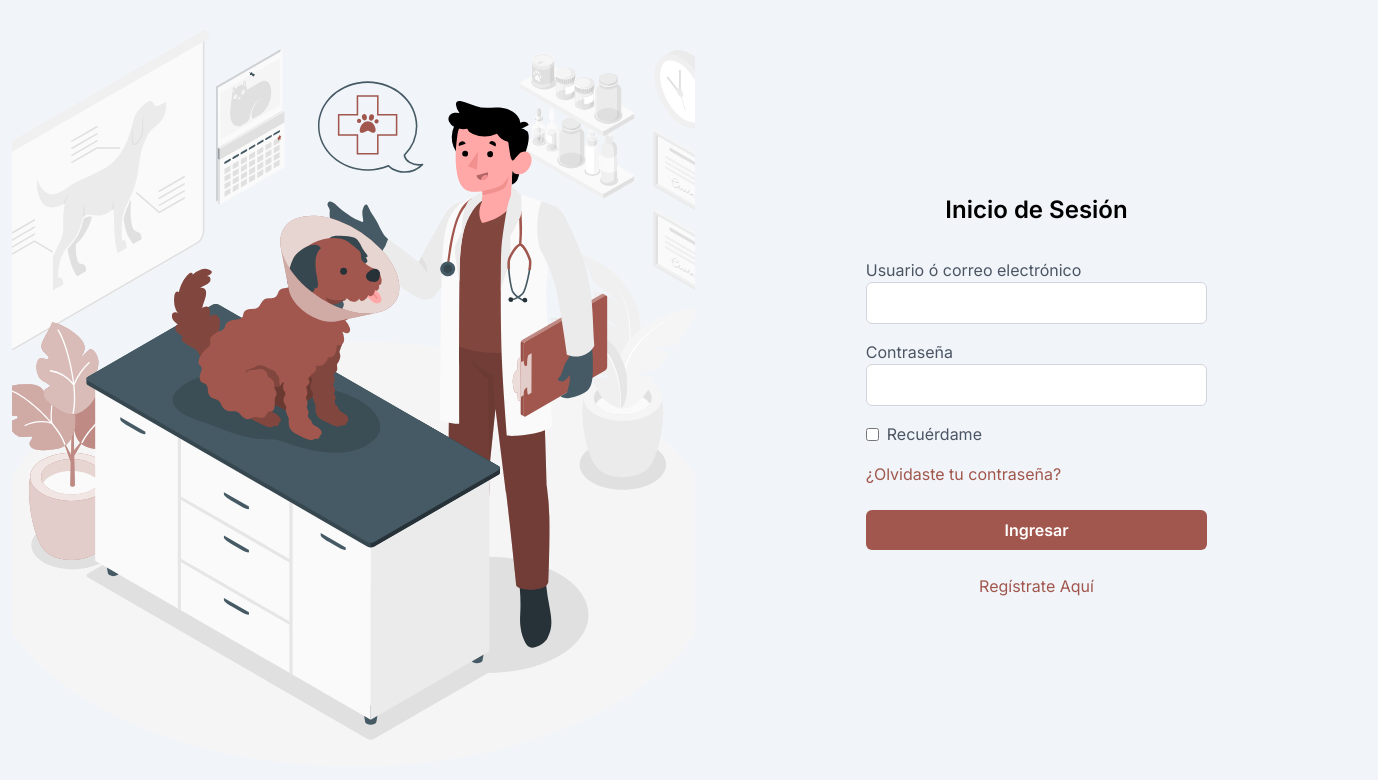
Test: SignIn Component › debería mostrar errores de validación si se intenta enviar el formulario vacío
Disparamos el submit sin llenar el formulario
Click the button "Ingresar": (1037, 530) [866,510,1207,550]
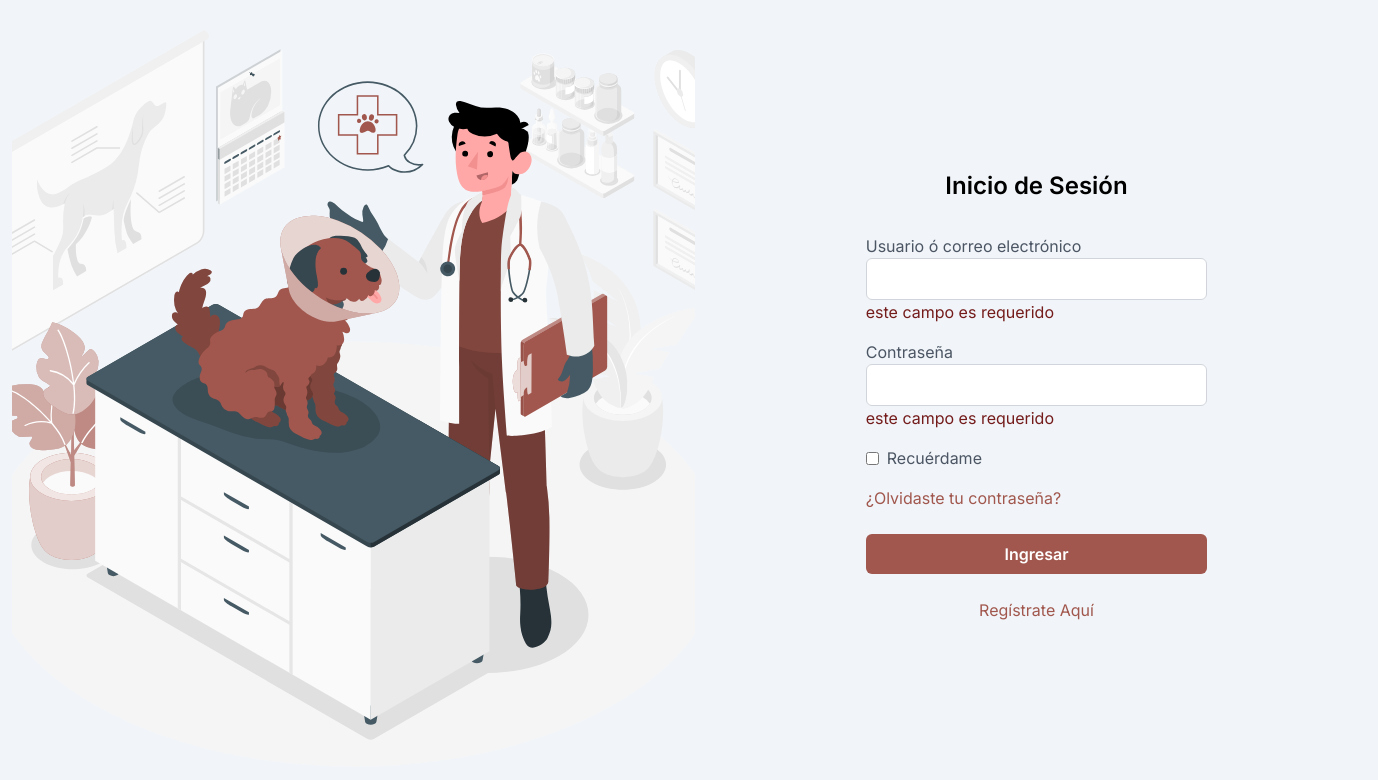
Check: the text "este campo es requerido" is shown 2 times, box [866,302,1054,322]; [866,408,1054,428]
